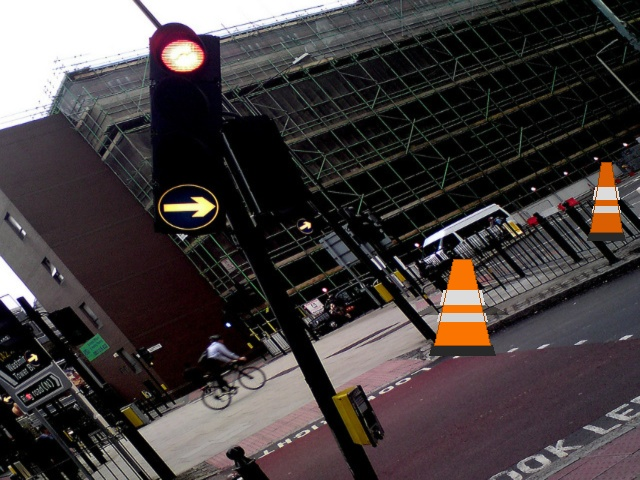traffic-cone: (429, 259, 495, 355), (587, 162, 625, 240)
